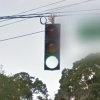Traffic light: (36, 18, 67, 86)
